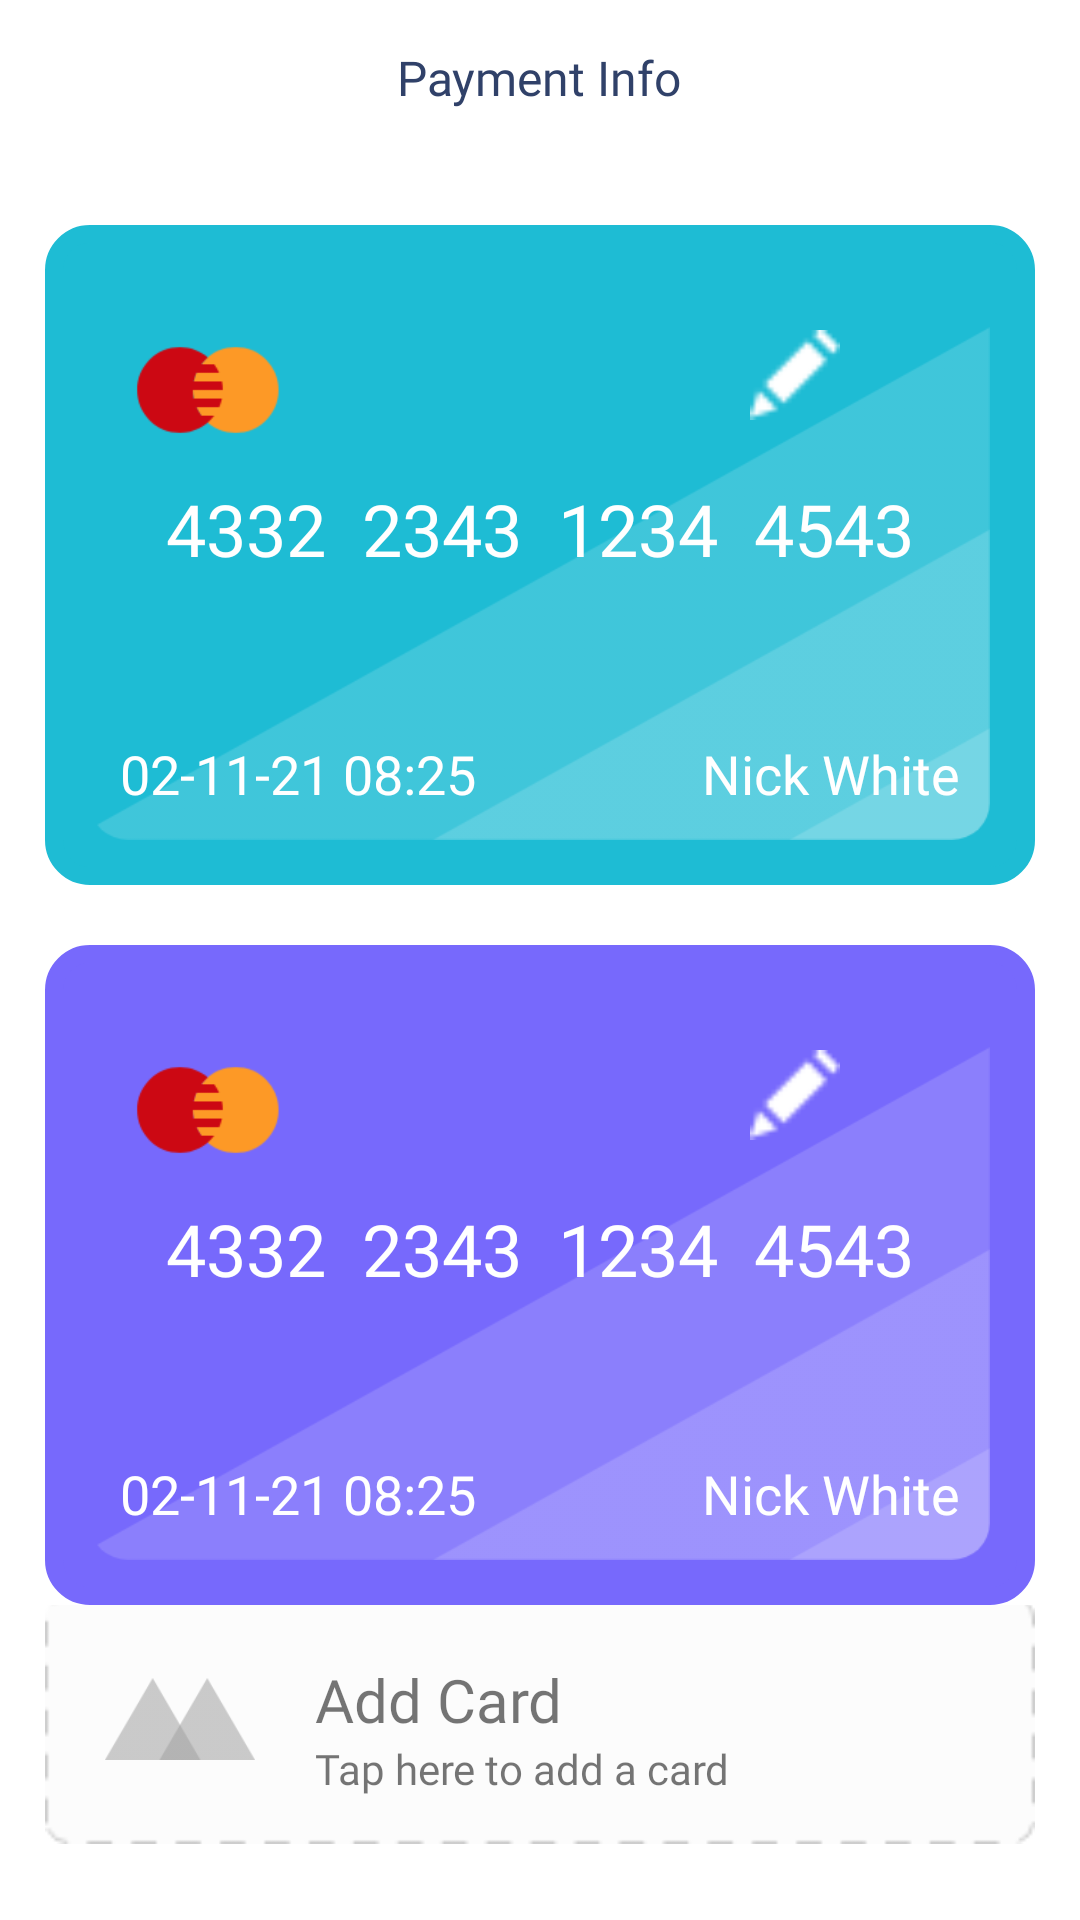

Named icons in this screenshot (1080*1920) and their bounding boxes, detection(x1, y1, x2, y2):
pencil: detection(750, 330, 840, 420), detection(750, 1050, 840, 1140)
